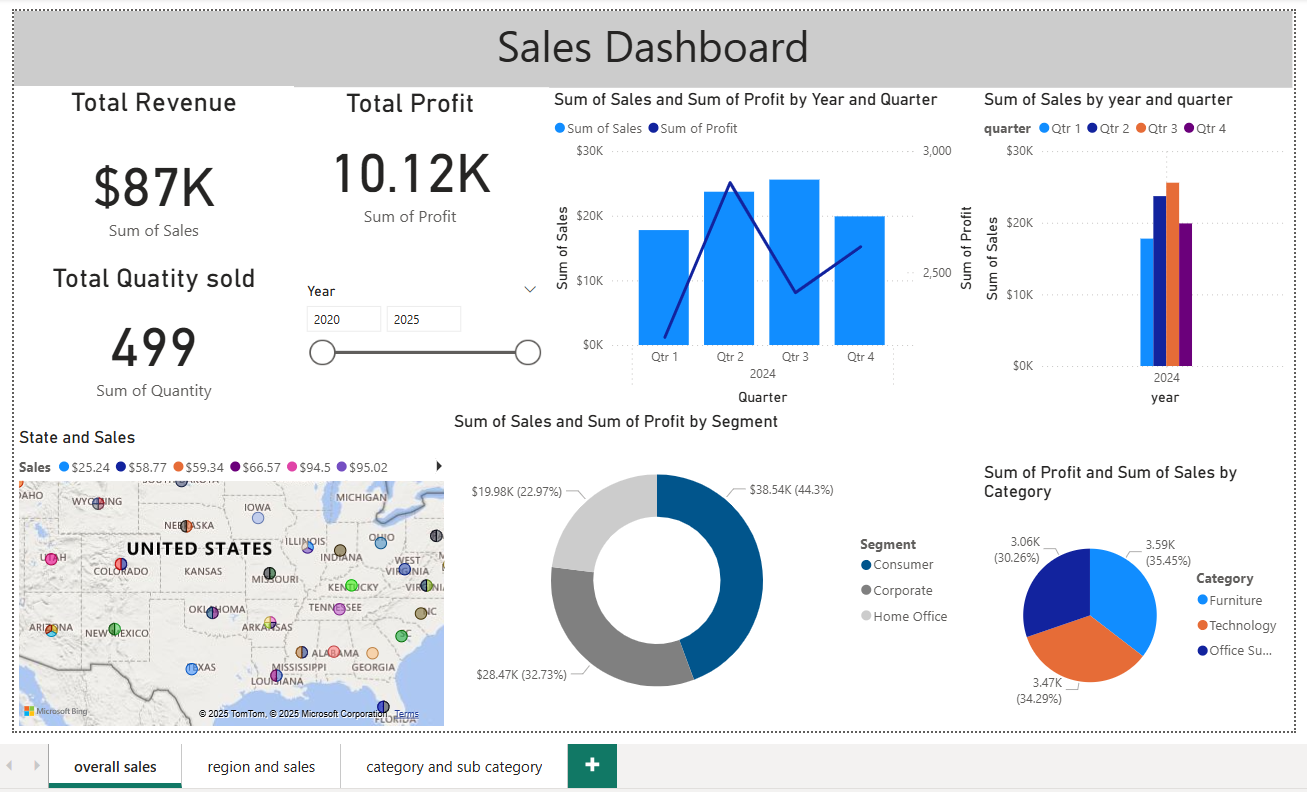

This screenshot's page, from the dashboard's own definition file:
{"tool":"powerbi","page":{"name":"overall sales","canvas":[1280,720],"ordinal":0},"visuals":[{"type":"textbox","box":[0,0,1278.3,76.7],"z":0},{"type":"card","title":"Total Revenue","fields":{"Values":["Sum(store.Sales)"]},"box":[0,75,280,180],"z":1},{"type":"card","title":"Total Quatity sold","fields":{"Values":["Sum(store.Quantity)"]},"box":[0,251.2,280,147.5],"z":2},{"type":"card","title":"Total Profit","fields":{"Values":["Sum(store.Profit)"]},"box":[257.5,76.2,277.5,150],"z":3},{"type":"slicer","fields":{"Values":["store.Order Date.Variation.Date Hierarchy.Year"]},"box":[280,266.2,255,150],"z":4},{"type":"lineStackedColumnComboChart","fields":{"Category":["store.Order Date.Variation.Date Hierarchy.Year","store.Order Date.Variation.Date Hierarchy.Quarter","store.Order Date.Variation.Date Hierarchy.Month","store.Order Date.Variation.Date Hierarchy.Day"],"Y":["Sum(store.Sales)"],"Y2":["Sum(store.Profit)"]},"box":[535,77.5,430,321.2],"z":5},{"type":"clusteredColumnChart","fields":{"Category":["store.year"],"Y":["Sum(store.Sales)"],"Series":["store.quarter"]},"box":[965,77.5,313.8,321.2],"z":6},{"type":"map","fields":{"Category":["store.State"],"Series":["store.Sales"]},"box":[0,416.7,435,303.3],"z":7},{"type":"donutChart","fields":{"Category":["store.Segment"],"Y":["Sum(store.Sales)"]},"box":[435,400,513.3,320],"z":8},{"type":"pieChart","fields":{"Category":["store.Category"],"Y":["Sum(store.Profit)"]},"box":[965,451.7,313.3,268.3],"z":9}]}

Visuals, with their boxes on the page's 1280x720 design canvas (x1, y1, x2, y2). These are canvas units, not pixel positions in the 1307x792 screenshot, which may show the page scaled, cropped or inside an application window:
textbox: l=0, t=0, r=1278, b=77
"Total Revenue" card: l=0, t=75, r=280, b=255
"Total Quatity sold" card: l=0, t=251, r=280, b=399
"Total Profit" card: l=258, t=76, r=535, b=226
slicer - store.Order Date.Variation.Date Hierarchy.Year: l=280, t=266, r=535, b=416
lineStackedColumnComboChart - store.Order Date.Variation.Date Hierarchy.Year x store.Order Date.Variation.Date Hierarchy.Quarter: l=535, t=78, r=965, b=399
clusteredColumnChart - store.year x Sum(store.Sales): l=965, t=78, r=1279, b=399
map - store.State x store.Sales: l=0, t=417, r=435, b=720
donutChart - store.Segment x Sum(store.Sales): l=435, t=400, r=948, b=720
pieChart - store.Category x Sum(store.Profit): l=965, t=452, r=1278, b=720
